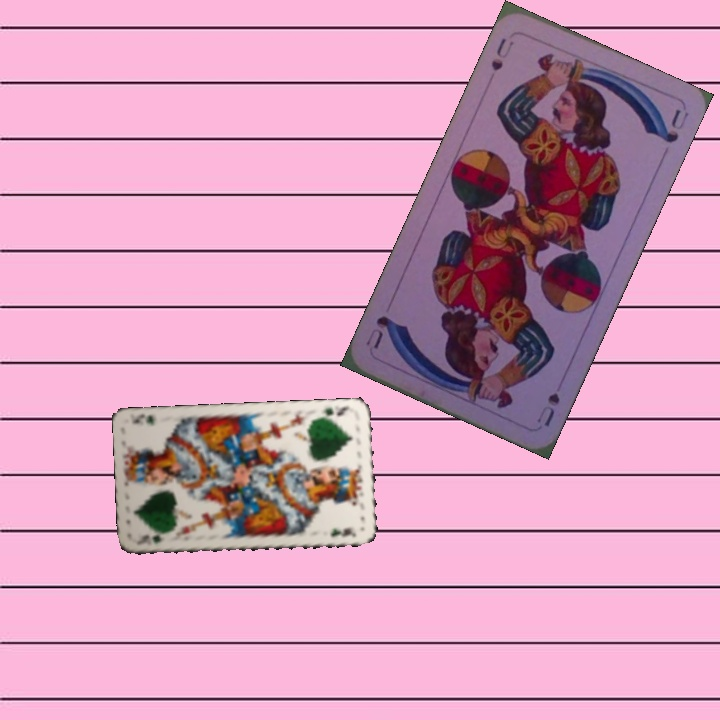GK: (315, 402, 356, 422), (132, 530, 166, 548)
SU: (532, 388, 563, 429), (487, 33, 517, 74)
